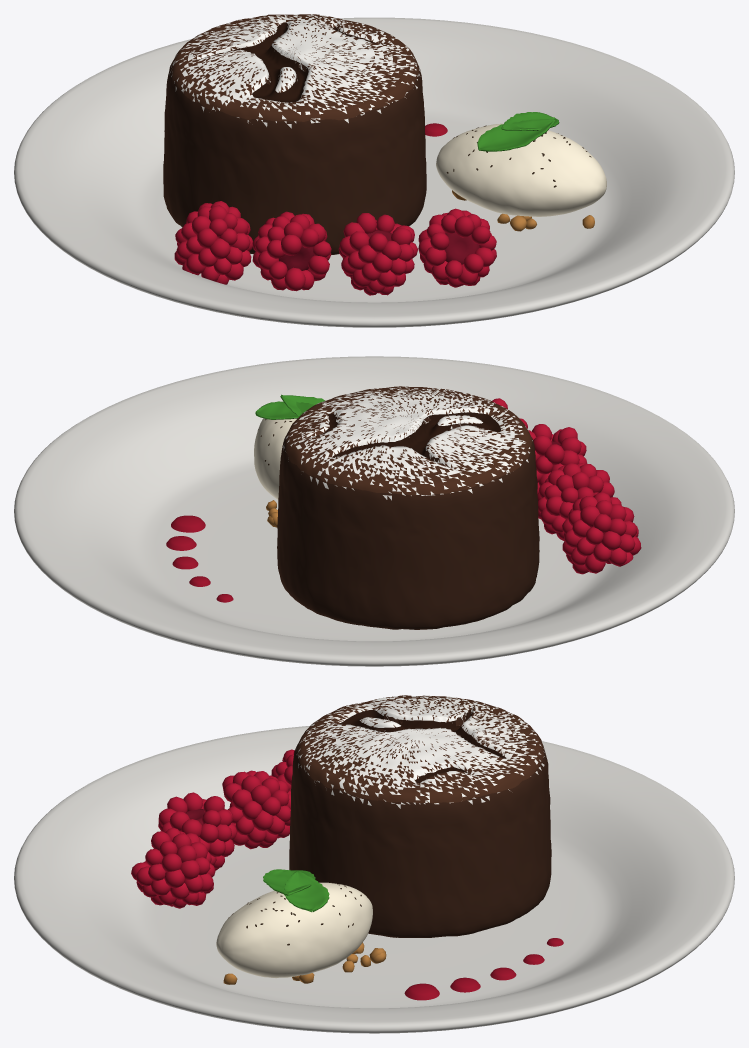
Rendered from fondant-chocolat.glb.
3 views of the same model, one above another, from view 1: azimuth 30°, elevation 25°; view 2: azimuth 150°, elevation 25°; view 3: azimuth 270°, elevation 25° (orthographic).
Parts seen in each view (by area): view 1: porcelaine_blanche, fondant_croute, framboise, sucre_glace, fondant_dessus, glace_vanille, chocolat_coulant, menthe, framboise_coeur, crumble; view 2: porcelaine_blanche, fondant_croute, sucre_glace, fondant_dessus, framboise, glace_vanille, chocolat_coulant, coulis_framboise, menthe; view 3: porcelaine_blanche, fondant_croute, sucre_glace, framboise, fondant_dessus, glace_vanille, menthe, chocolat_coulant, coulis_framboise, crumble.
Part boxes in pixels (left/top/right/bottom): porcelaine_blanche: left=14, top=17, right=734, bottom=327; fondant_croute: left=163, top=49, right=426, bottom=254; framboise: left=174, top=201, right=496, bottom=295; sucre_glace: left=169, top=14, right=420, bottom=128; fondant_dessus: left=171, top=14, right=419, bottom=121; glace_vanille: left=436, top=123, right=606, bottom=216; chocolat_coulant: left=233, top=22, right=376, bottom=102; menthe: left=477, top=112, right=559, bottom=151; framboise_coeur: left=218, top=229, right=479, bottom=270; crumble: left=452, top=190, right=594, bottom=231; porcelaine_blanche: left=14, top=356, right=734, bottom=666; fondant_croute: left=277, top=417, right=539, bottom=629; sucre_glace: left=282, top=386, right=532, bottom=500; fondant_dessus: left=285, top=386, right=531, bottom=495; framboise: left=492, top=398, right=641, bottom=574; glace_vanille: left=254, top=418, right=296, bottom=499; chocolat_coulant: left=320, top=412, right=500, bottom=467; coulis_framboise: left=166, top=515, right=233, bottom=602; menthe: left=255, top=394, right=325, bottom=419; porcelaine_blanche: left=14, top=726, right=734, bottom=1033; fondant_croute: left=289, top=712, right=551, bottom=937; sucre_glace: left=296, top=695, right=544, bottom=808; framboise: left=131, top=749, right=294, bottom=908; fondant_dessus: left=296, top=695, right=544, bottom=803; glace_vanille: left=216, top=882, right=372, bottom=978; menthe: left=263, top=869, right=329, bottom=912; chocolat_coulant: left=340, top=709, right=505, bottom=783; coulis_framboise: left=404, top=938, right=563, bottom=1000; crumble: left=223, top=942, right=386, bottom=984.
Bounding box in the file's own units: 0.22 × 0.0598 × 0.22.
